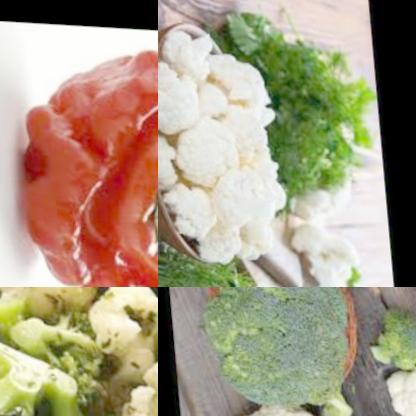broccoli: (179, 287, 362, 408), (360, 301, 416, 370), (114, 287, 158, 333)
cayliflower: (158, 24, 292, 264), (72, 287, 158, 416), (292, 175, 358, 287), (379, 357, 416, 416)
hot pepper: (0, 38, 158, 287)
